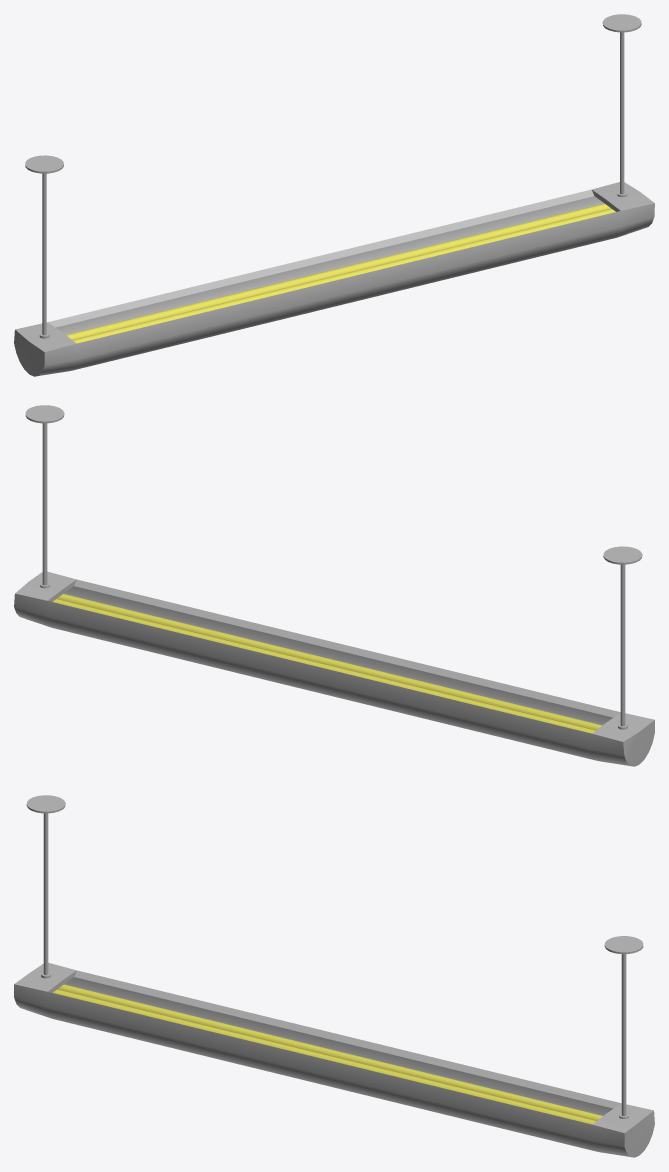
The model's file is lights2_New 1.fbx.
The picture shows the model from 3 angles, top to bottom: view 1: azimuth 30°, elevation 25°; view 2: azimuth 150°, elevation 25°; view 3: azimuth 330°, elevation 25°; orthographic projection.
Parts seen in each view (by area): view 1: fixtureBase, bulb, supportL, supportR, supportLtopBase, supportRtopBase; view 2: fixtureBase, bulb, supportR, supportL, supportLtopBase, supportRtopBase; view 3: fixtureBase, bulb, supportR, supportL, supportLtopBase, supportRtopBase.
Part boxes in pixels (x1,y1,x2,y2): fixtureBase: [14, 182, 654, 376]; bulb: [66, 203, 615, 343]; supportL: [42, 173, 46, 335]; supportR: [620, 32, 624, 194]; supportLtopBase: [25, 155, 63, 173]; supportRtopBase: [602, 14, 641, 32]; fixtureBase: [14, 571, 654, 766]; bulb: [53, 594, 602, 733]; supportR: [42, 423, 47, 585]; supportL: [620, 564, 625, 726]; supportLtopBase: [603, 546, 642, 564]; supportRtopBase: [25, 405, 64, 423]; fixtureBase: [14, 962, 654, 1157]; bulb: [53, 984, 602, 1124]; supportR: [621, 954, 626, 1116]; supportL: [43, 813, 48, 975]; supportLtopBase: [26, 795, 65, 813]; supportRtopBase: [604, 936, 643, 954].
Size of the model in its own units: 30.15 by 9.86 by 2.73.
